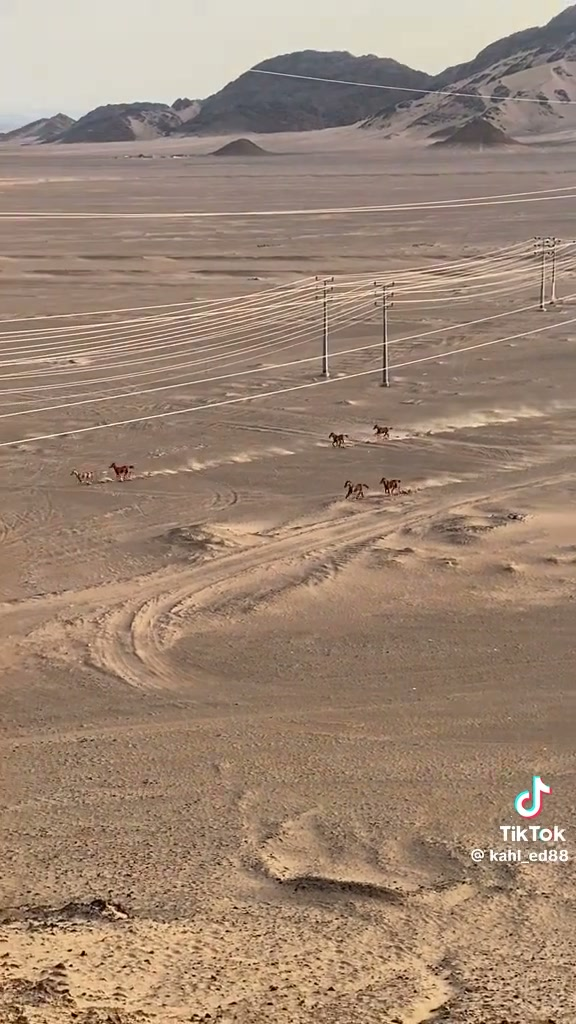animal: (109, 462, 133, 481), (344, 480, 368, 499), (380, 477, 400, 494), (70, 470, 92, 484), (329, 432, 347, 447), (373, 424, 389, 438)
vehicle_track: (0, 457, 570, 689), (92, 476, 548, 688), (91, 492, 492, 688), (0, 488, 54, 545)
